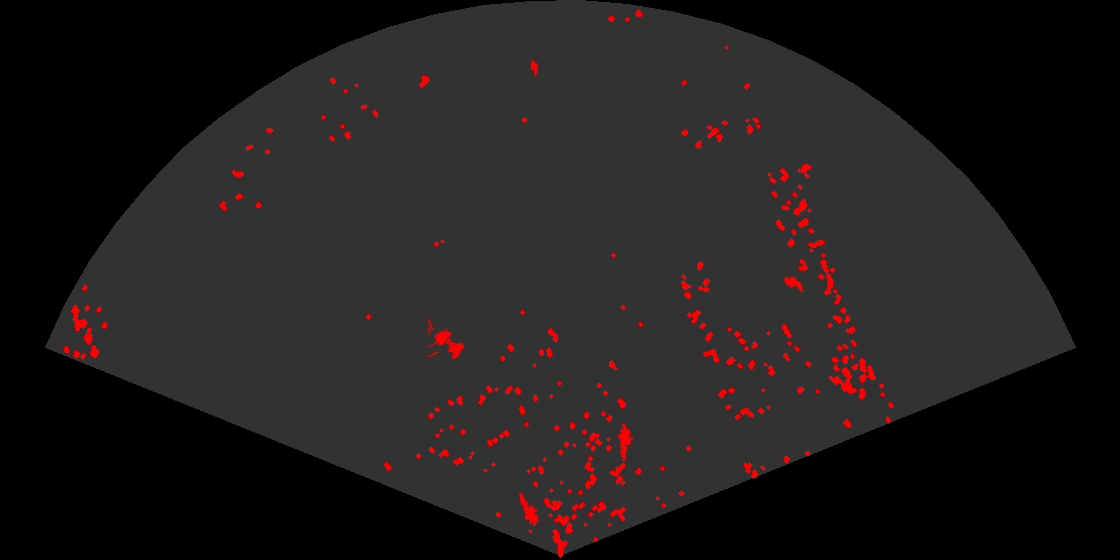AUV: (782, 275, 805, 294), (528, 59, 538, 78)
cage: (428, 317, 466, 361)
frogman: (517, 491, 540, 526), (616, 424, 635, 463)
